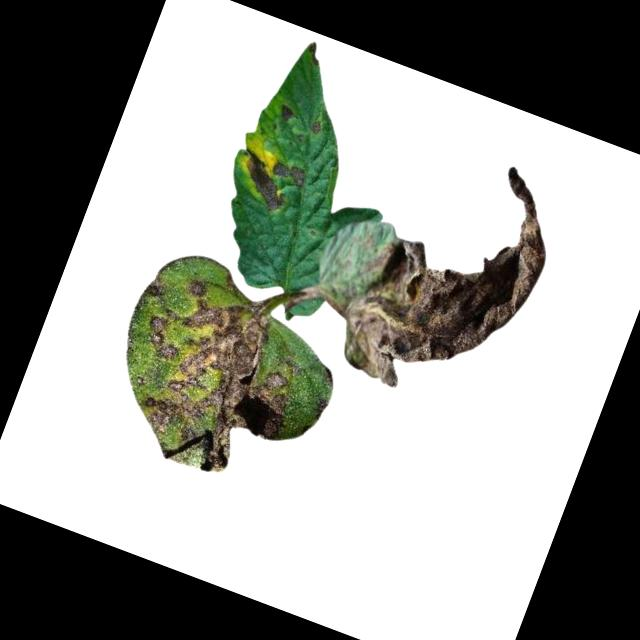Early_blight: (318, 124, 575, 422), (85, 257, 324, 496), (227, 141, 315, 220), (277, 101, 298, 122), (308, 116, 328, 136)
